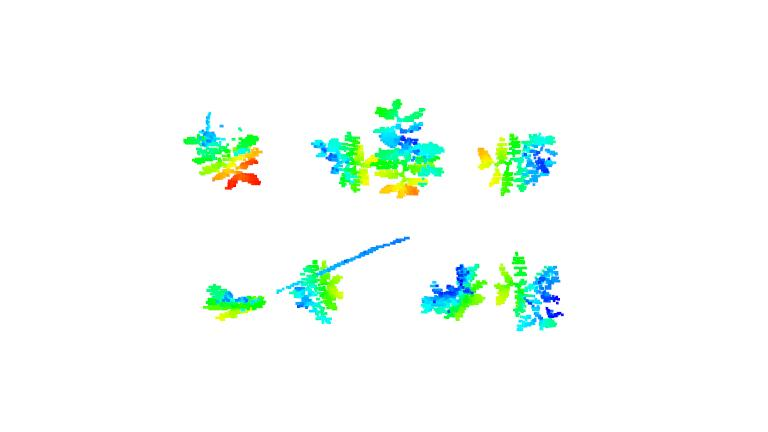chickpea: (369, 94, 451, 197), (180, 112, 272, 191), (494, 255, 566, 334), (476, 129, 558, 194), (421, 260, 489, 323), (314, 125, 374, 192), (286, 260, 343, 324), (202, 282, 270, 321)
